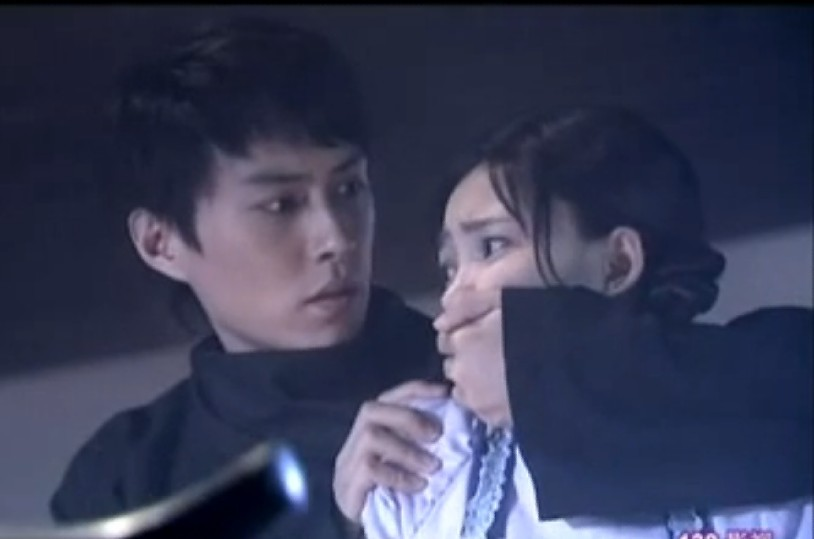face: (183, 134, 377, 343), (432, 167, 607, 380)
